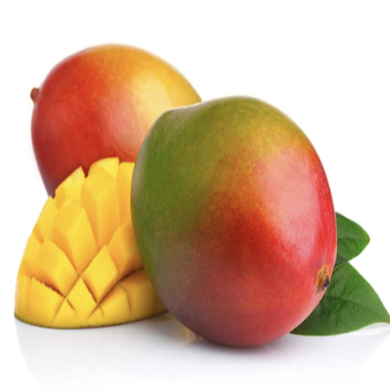mango: (121, 90, 354, 354), (11, 34, 228, 243)
